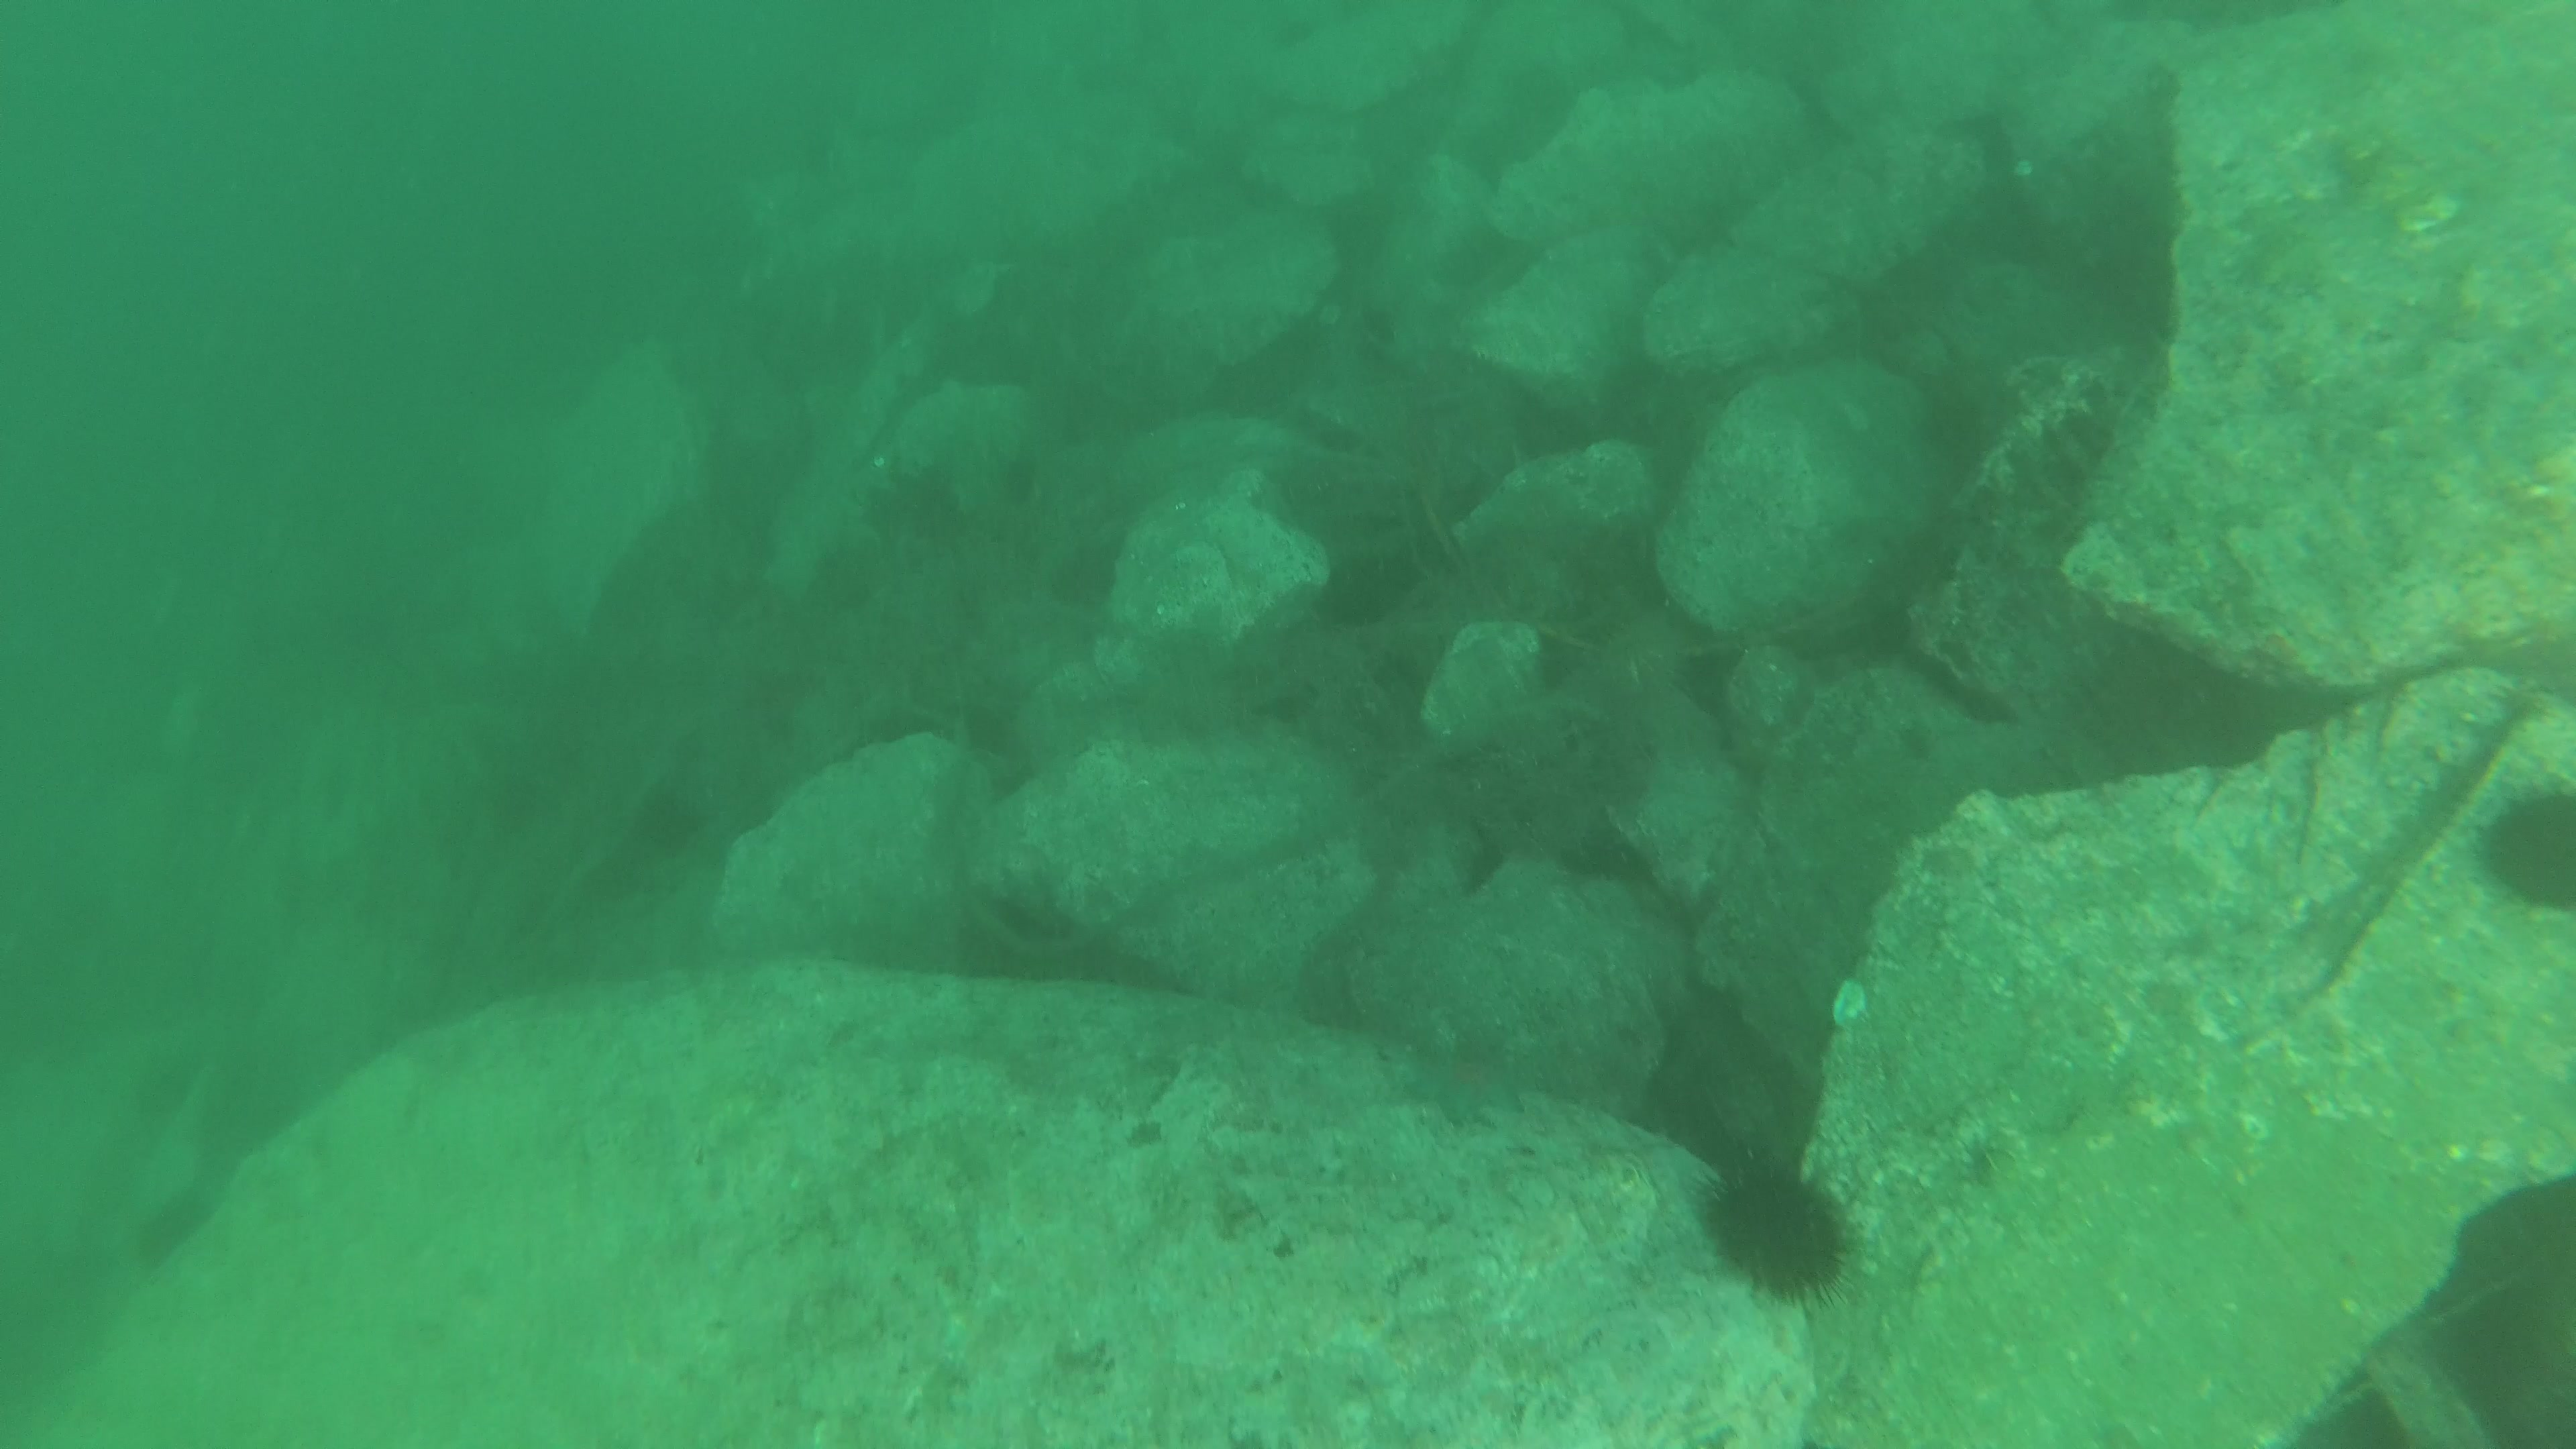echinus: (1688, 1139, 1867, 1316), (2479, 766, 2574, 939)
